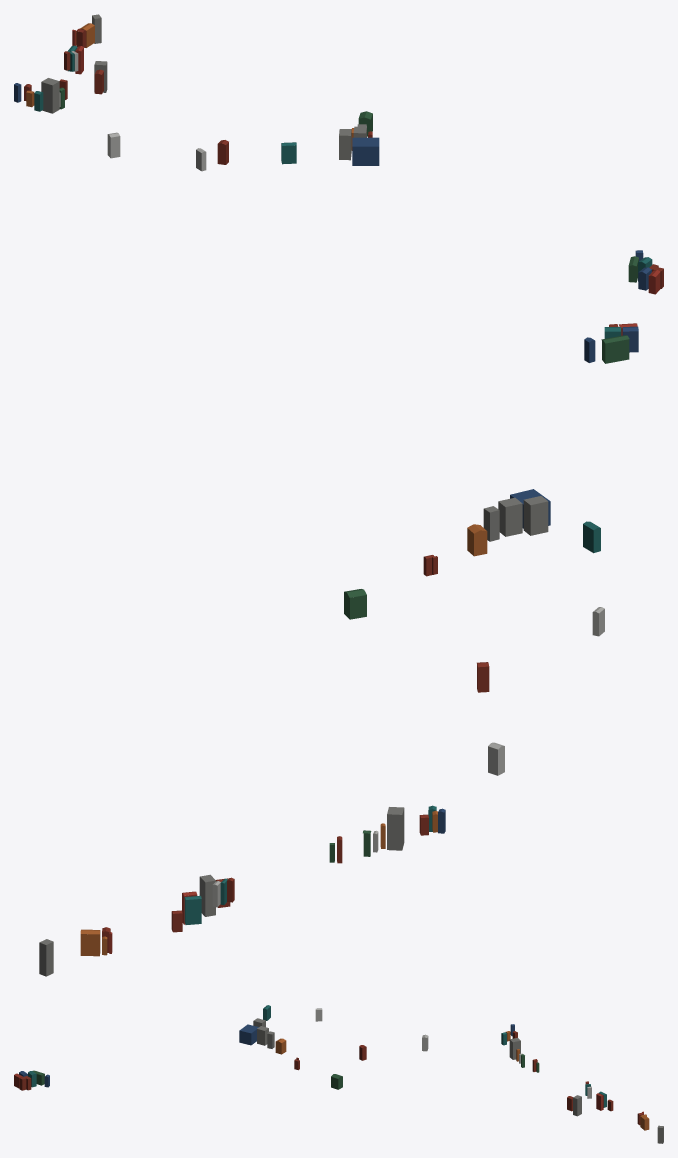
The model's file is near-15-27364-14876.ad4bcbf9.glb.
3 views of the same model, one above another, from view 1: azimuth 30°, elevation 25°; view 2: azimuth 150°, elevation 25°; view 3: azimuth 270°, elevation 25° (orthographic). The views are drawn at different scales.
Bounding box in the file's own units: 265 × 156 × 913.
